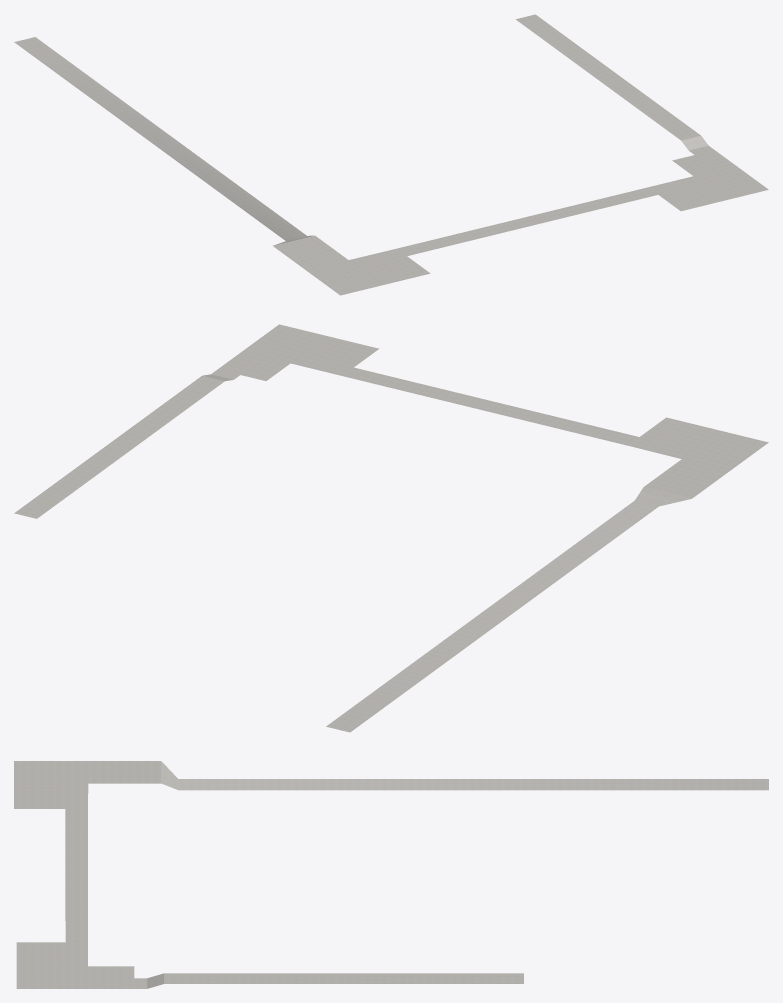
The model's file is третий этаж потолок.fbx.
The picture shows the model from 3 angles, top to bottom: view 1: azimuth 30°, elevation 25°; view 2: azimuth 150°, elevation 25°; view 3: azimuth 270°, elevation 25°; orthographic projection. The views are drawn at different scales.
Parts seen in each view (by area): view 1: Plane019; view 2: Plane019; view 3: Plane019.
Boxes of the visible parts, x1,y1,x2,y2 form: Plane019: (14, 14, 768, 295); Plane019: (14, 324, 768, 732); Plane019: (14, 761, 768, 988).
Bounding box in the file's own units: 6131 × 145 × 8585.
Materials: 1 (1 with a texture image).
